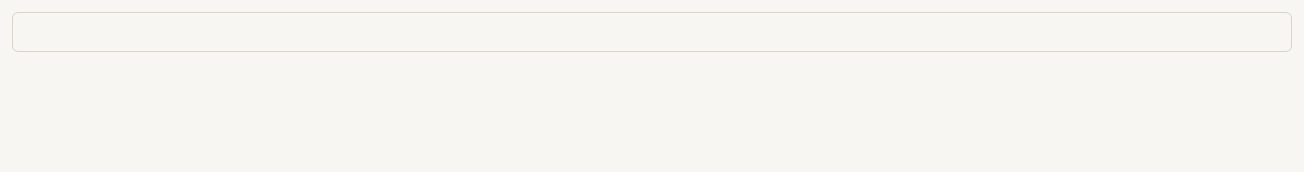
Scenario: regional location selection regressions › selects a suggestion with a single touch tap after typing a partial name
In the dropdown: (652, 32) [12, 12, 1292, 52], type "mama"
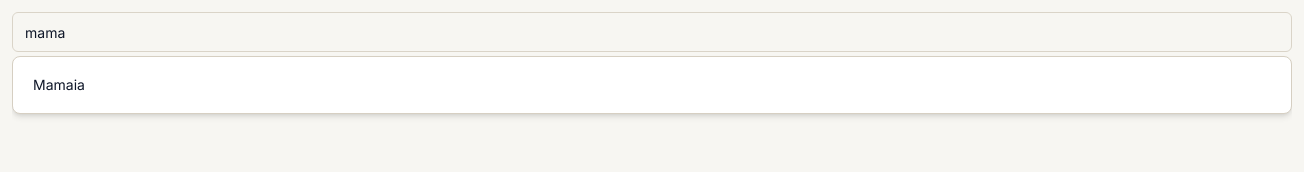
Click the option "Mamaia": (59, 84) [17, 61, 1287, 109]
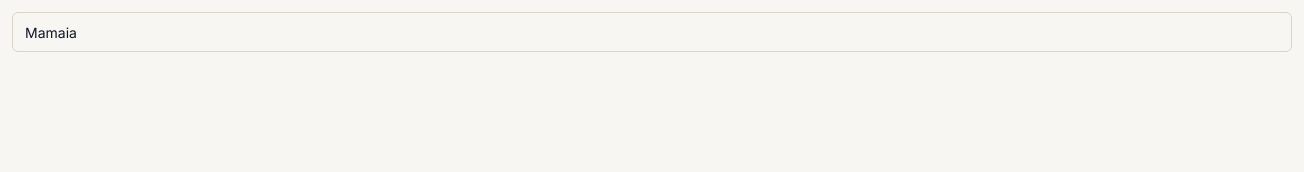
Result: the dropdown holds "Mamaia" at [12, 12, 1292, 52]
Result: the list is gone
